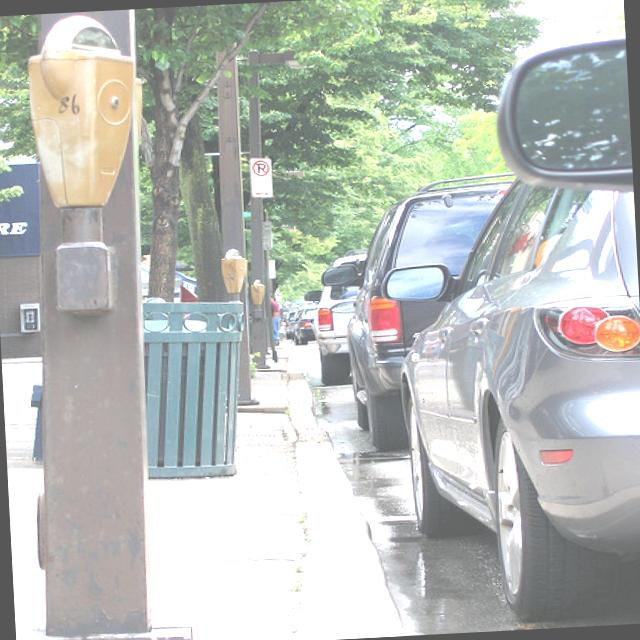Vehicle: (376, 170, 640, 628), (339, 172, 530, 455), (304, 284, 367, 386), (633, 387, 640, 623), (290, 305, 318, 346), (284, 310, 298, 340)
